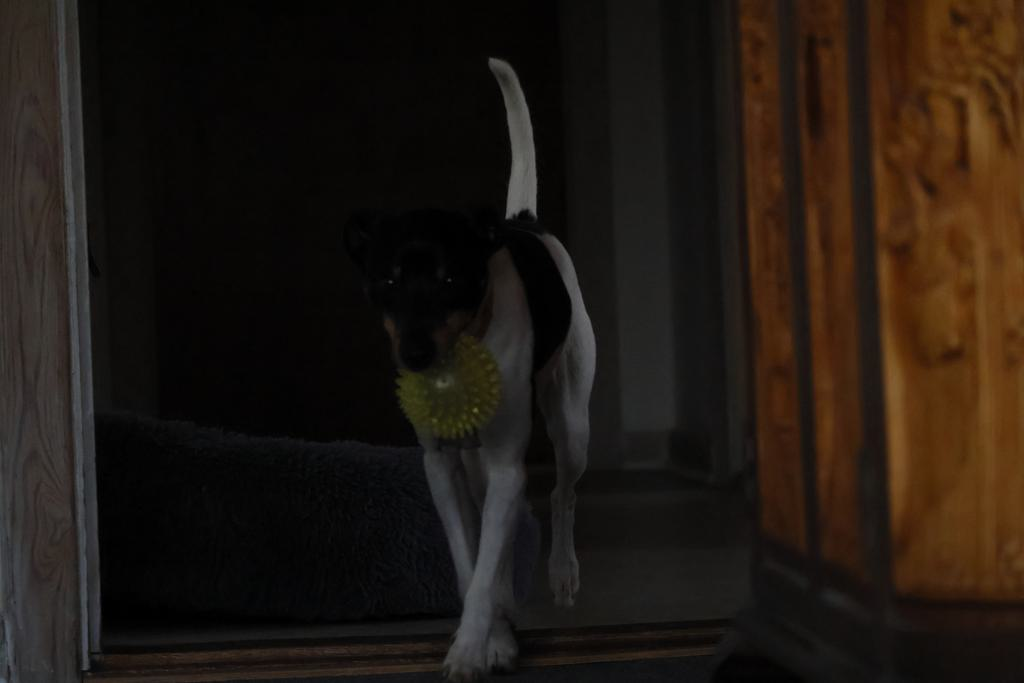Dog: (335, 42, 624, 683)
